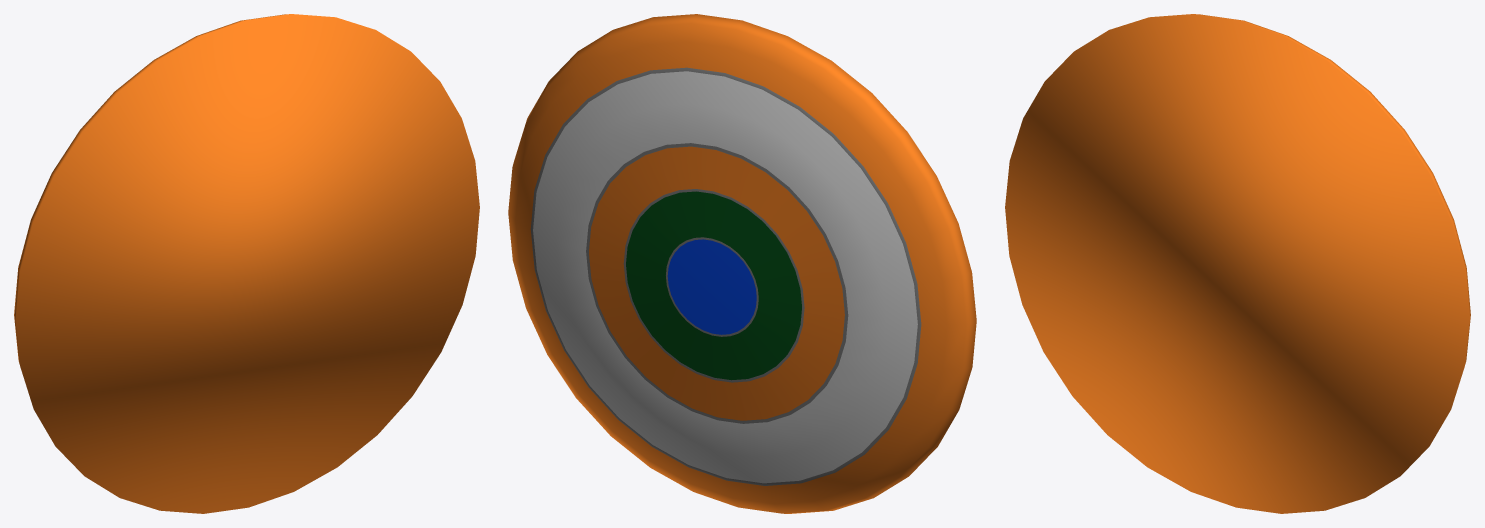
Rendered from CaptainAmericaShield.fbx.
3 renders of one model, left to right at view 1: azimuth 30°, elevation 25°; view 2: azimuth 150°, elevation 25°; view 3: azimuth 330°, elevation 25°, orthographic.
Parts seen in each view (by area): view 1: Sphere; view 2: Sphere; view 3: Sphere.
Boxes of the visible parts, x1,y1,x2,y2 form: Sphere: [14, 14, 479, 513]; Sphere: [508, 14, 976, 513]; Sphere: [1005, 14, 1470, 513].
Size of the model in its own units: 200 by 200 by 24.23.
